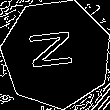N_E: (29, 31, 84, 77)
